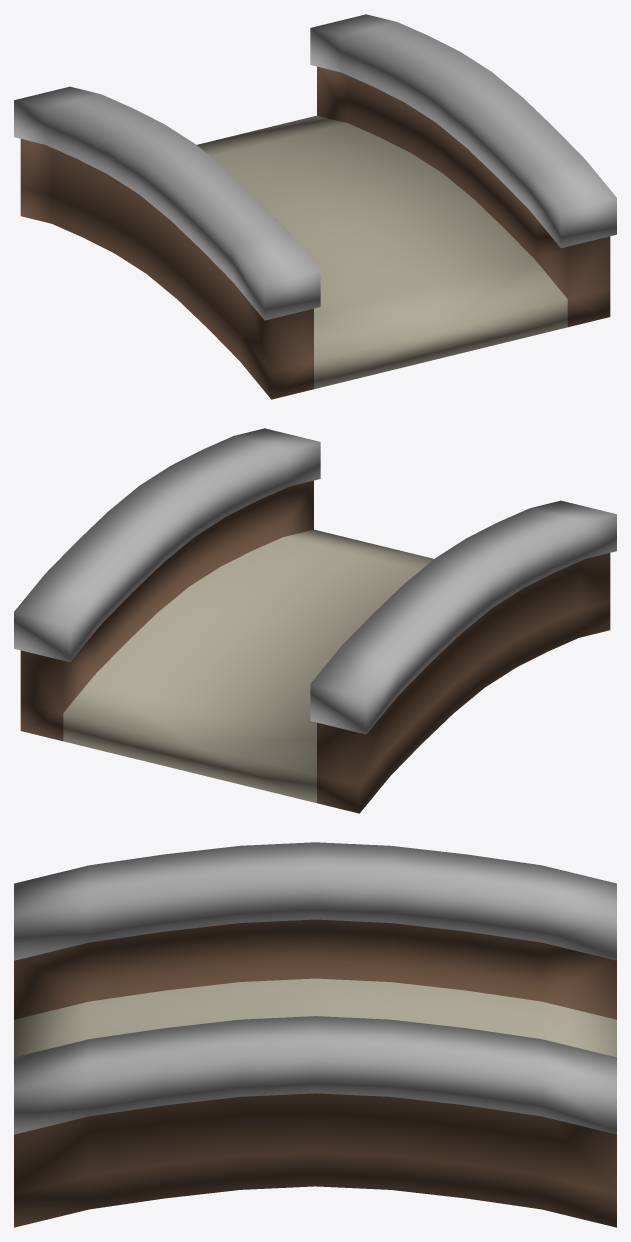
Rendered from Bridge.fbx.
The picture shows the model from 3 angles, top to bottom: view 1: azimuth 30°, elevation 25°; view 2: azimuth 150°, elevation 25°; view 3: azimuth 270°, elevation 25°; orthographic projection. The views are drawn at different scales.
Visible parts, largest first — view 1: Cube; view 2: Cube; view 3: Cube.
Part boxes in pixels (box(x1,y1,x2,y2)): Cube: box(14, 14, 616, 399); Cube: box(14, 428, 616, 813); Cube: box(14, 842, 616, 1227).
Bounding box in the file's own units: 9.86 × 4.06 × 12.16.
